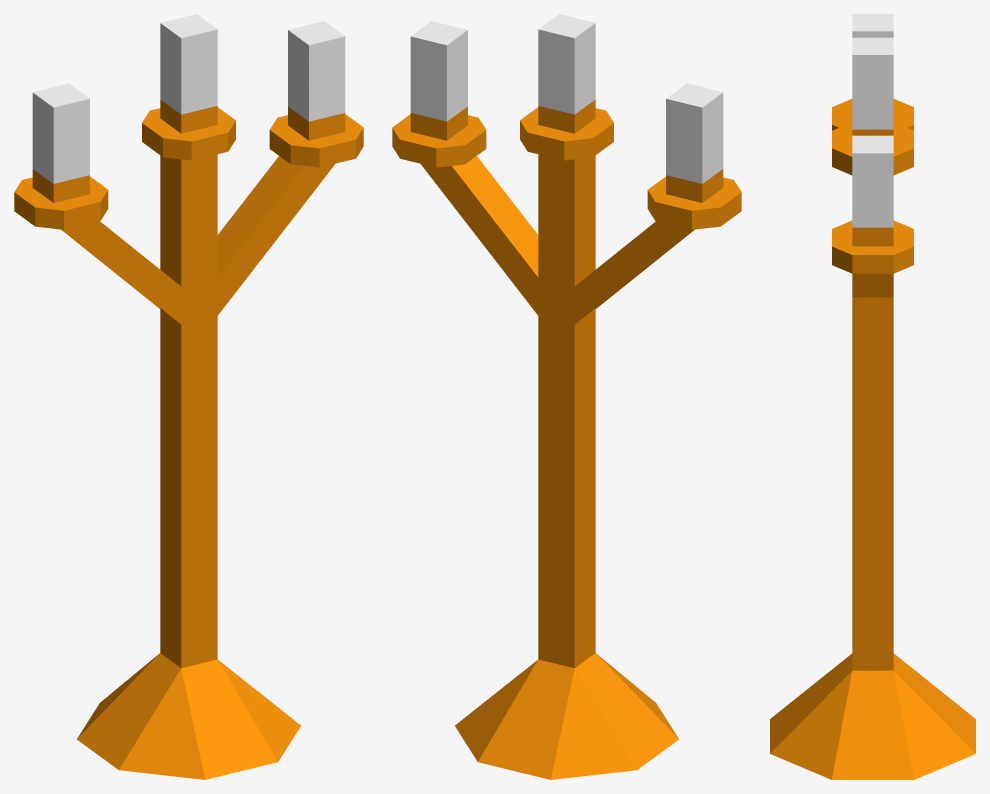
The model's file is candles.obj.
3 views of the same model, side by side, from view 1: azimuth 30°, elevation 25°; view 2: azimuth 150°, elevation 25°; view 3: azimuth 270°, elevation 25° (orthographic). The views are drawn at different scales.
Visible parts, largest first — view 1: candles_back; view 2: candles_back; view 3: candles_back.
Part boxes in pixels (x1=…): candles_back: x1=14, y1=14, x2=363, y2=779; candles_back: x1=392, y1=14, x2=741, y2=779; candles_back: x1=770, y1=14, x2=975, y2=779.
Size of the model in its own units: 0.72 by 1.48 by 0.4.
